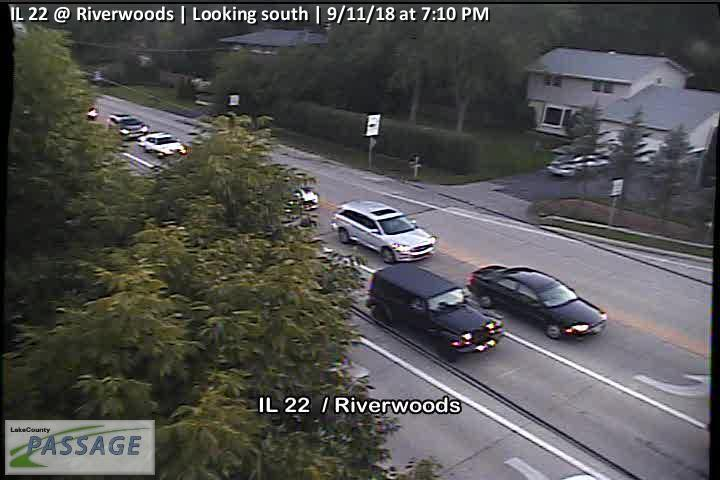Sedan: (465, 261, 609, 339), (330, 198, 437, 263), (138, 129, 187, 158), (106, 110, 150, 140)
Truck: (365, 261, 503, 361)
